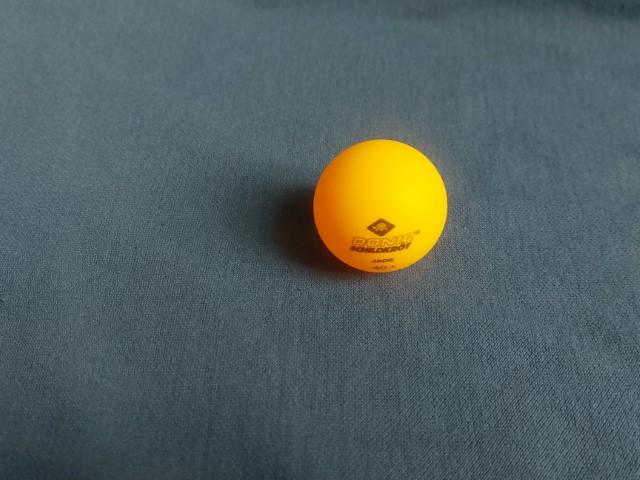oball: (304, 132, 454, 280)
